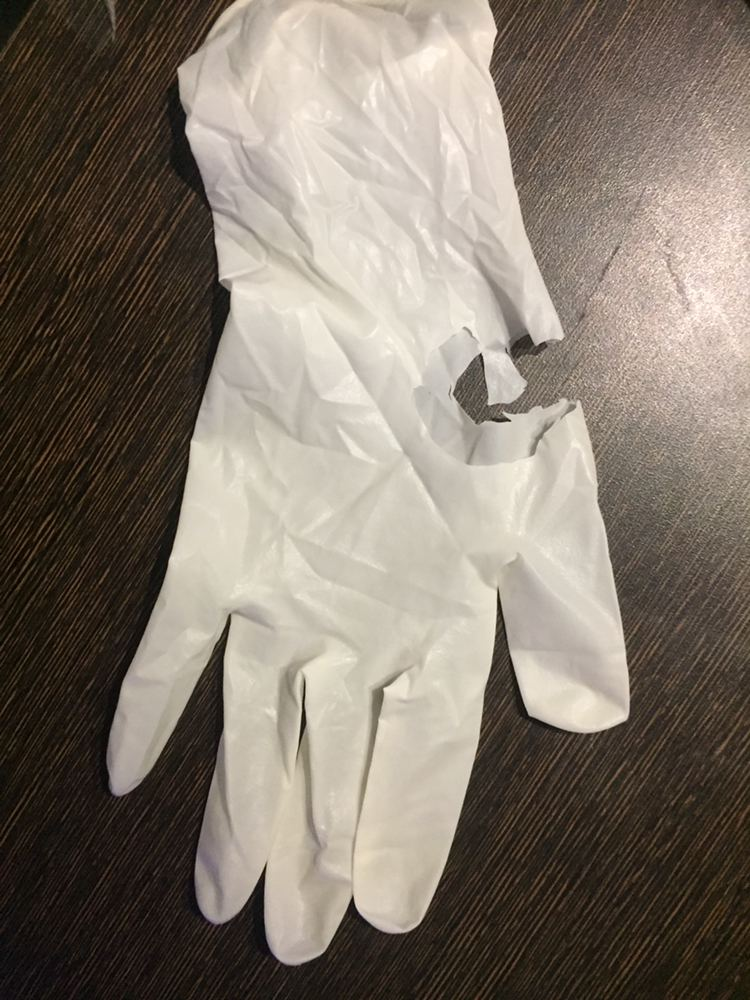defected: (106, 40, 677, 945)
